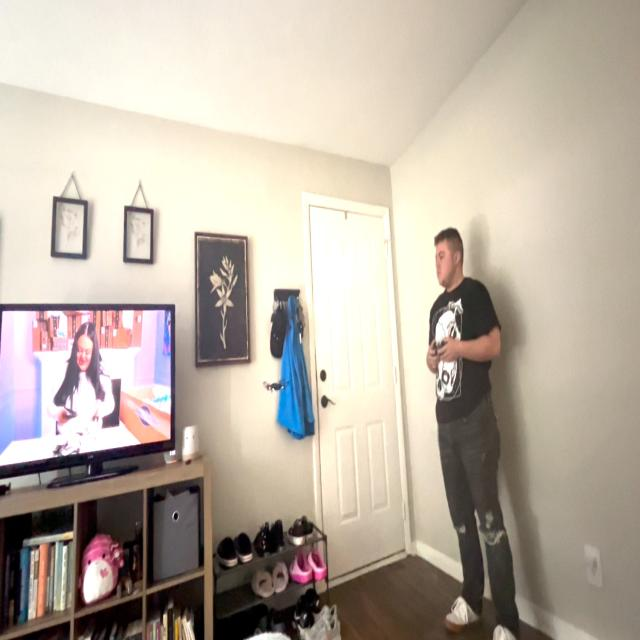drone: (259, 369, 294, 405)
